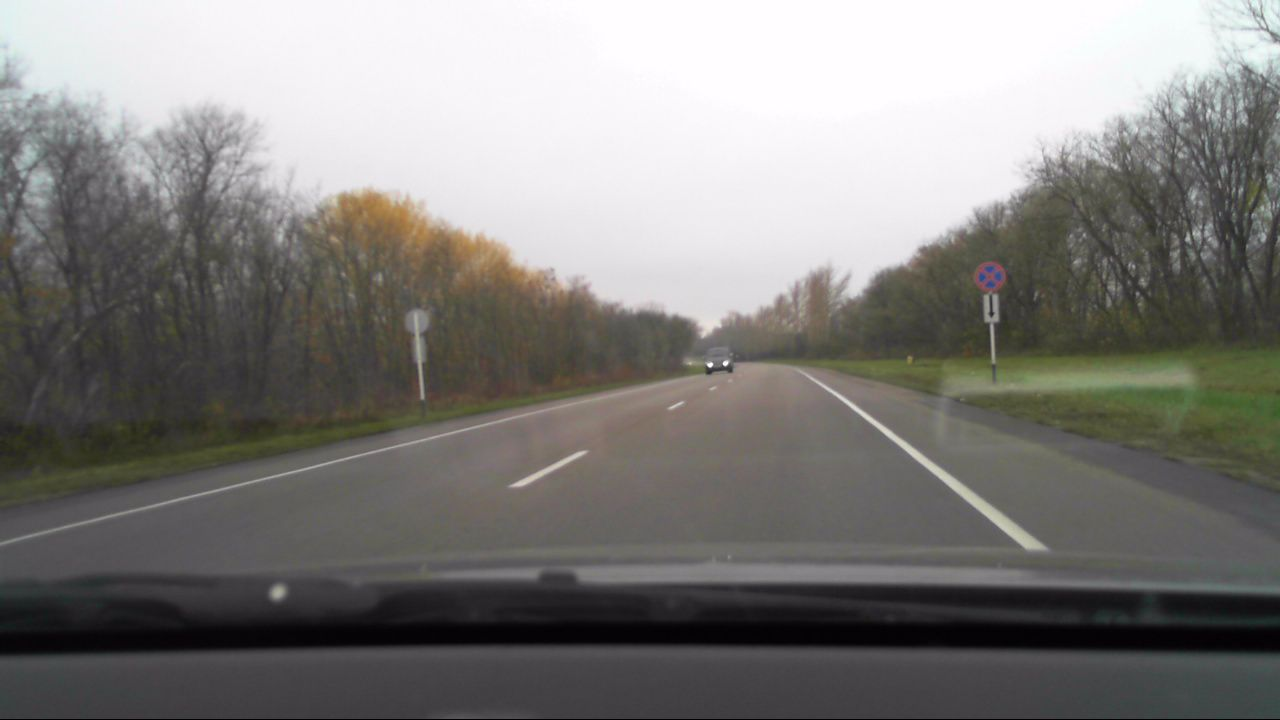No Parking: (973, 258, 1008, 294)
